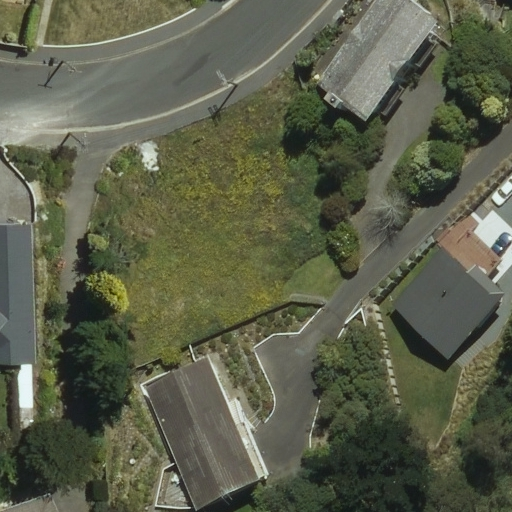DT: (212, 64, 243, 97), (66, 125, 94, 150)
